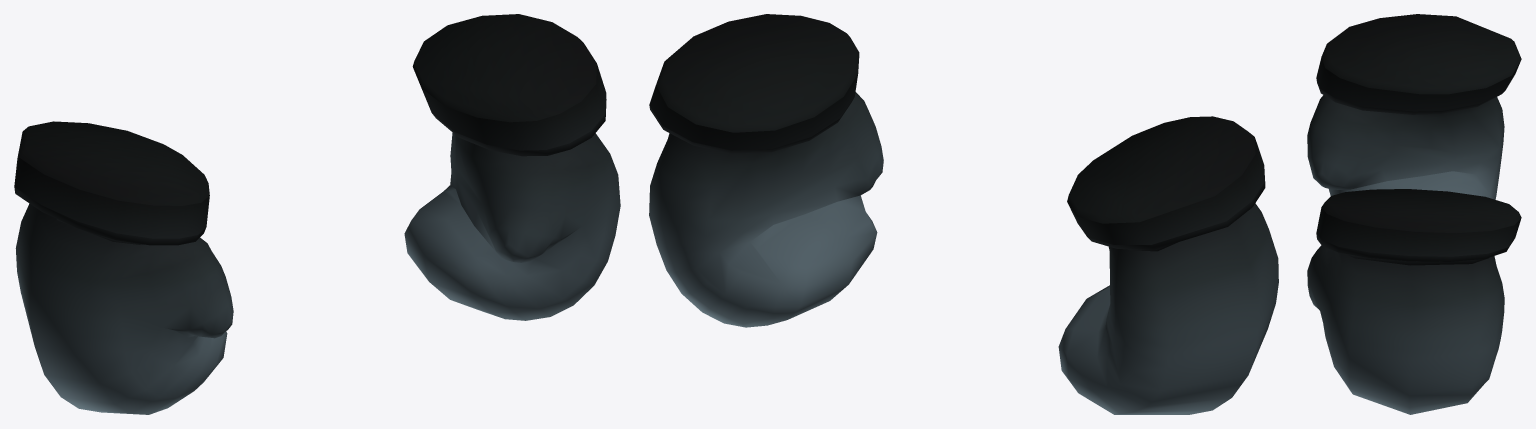
The model's file is gloves1.fbx.
3 views of the same model, side by side, from view 1: azimuth 30°, elevation 25°; view 2: azimuth 150°, elevation 25°; view 3: azimuth 270°, elevation 25° (orthographic). The views are drawn at different scales.
Parts seen in each view (by area): view 1: 1, 1.001; view 2: 1.001, 1; view 3: 1.001, 1.
Boxes of the visible parts, left/top/right/bottom form: 1: left=14, top=121, right=233, bottom=414; 1.001: left=404, top=14, right=620, bottom=320; 1.001: left=649, top=14, right=883, bottom=327; 1: left=1058, top=116, right=1278, bottom=414; 1.001: left=1307, top=189, right=1521, bottom=414; 1: left=1307, top=14, right=1521, bottom=199.
Size of the model in its own units: 1.36 by 0.5849 by 0.5447.
